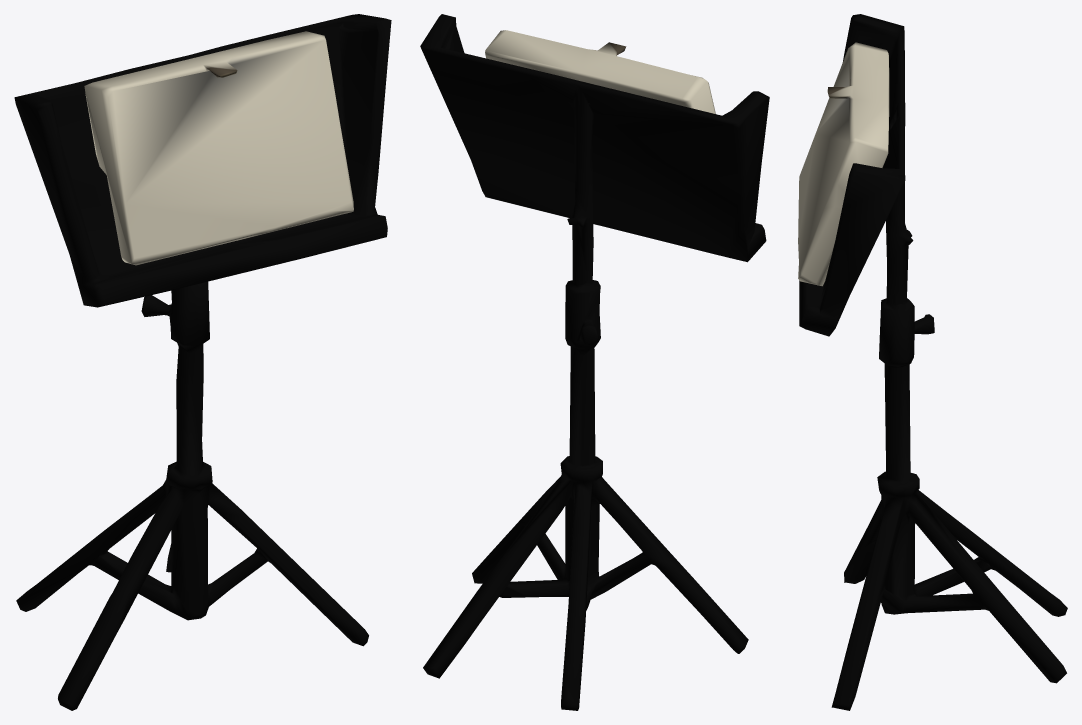
The model's file is gen3d-music-stand-lod1.glb.
3 views of the same model, side by side, from view 1: azimuth 30°, elevation 25°; view 2: azimuth 150°, elevation 25°; view 3: azimuth 270°, elevation 25° (orthographic). The views are drawn at different scales.
Visible parts, largest first — view 1: part_0; view 2: part_0; view 3: part_0.
Boxes of the visible parts, bbox=[...] form: part_0: bbox=[14, 14, 391, 710]; part_0: bbox=[420, 14, 769, 710]; part_0: bbox=[798, 14, 1067, 710].
Bounding box in the file's own units: 0.6093 × 0.9993 × 0.4387.
